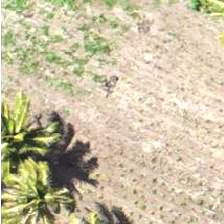Kelapa_Sawit: (0, 153, 79, 223), (0, 94, 59, 184)
